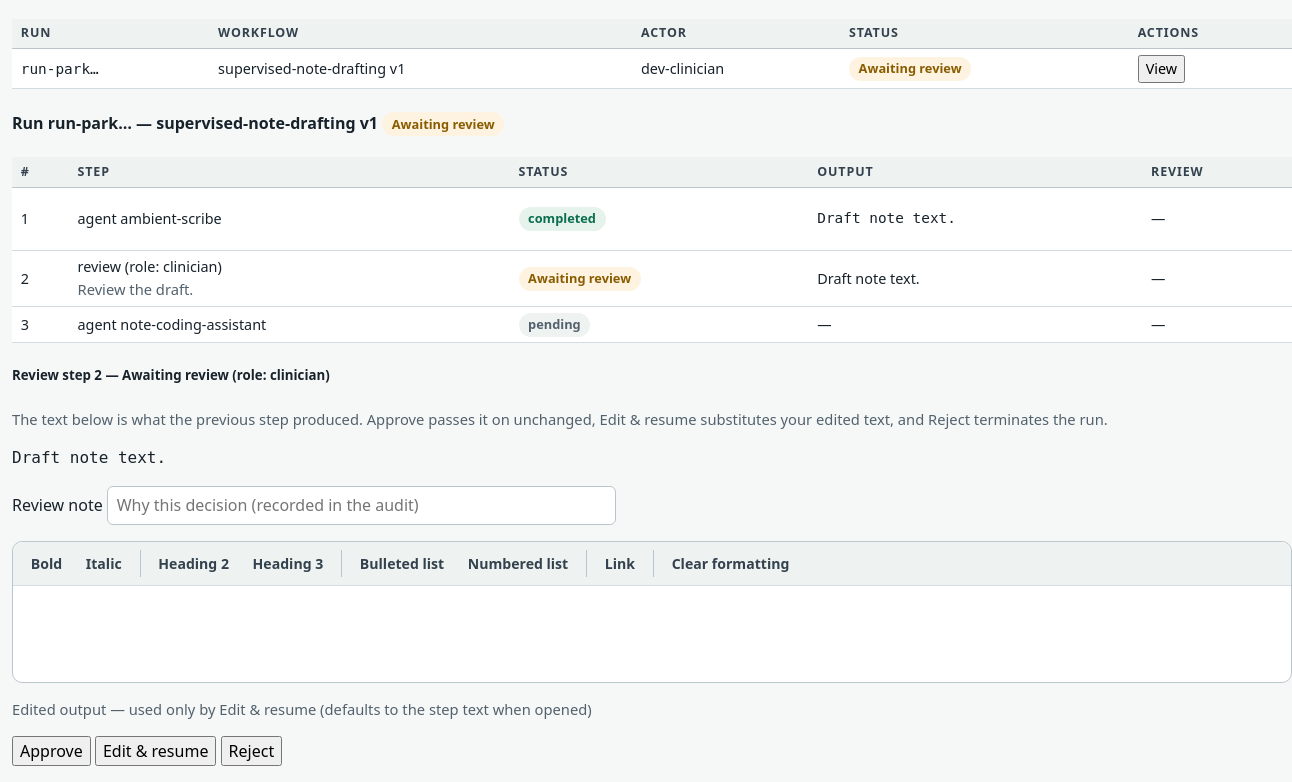
Scenario: AgentWorkflowsTab › reject terminates the run and shows downstream steps skipped
(page scrolled)
Click the button "Reject".
click(251, 751)  # box x1=221 y1=736 x2=282 y2=766
(page scrolled)
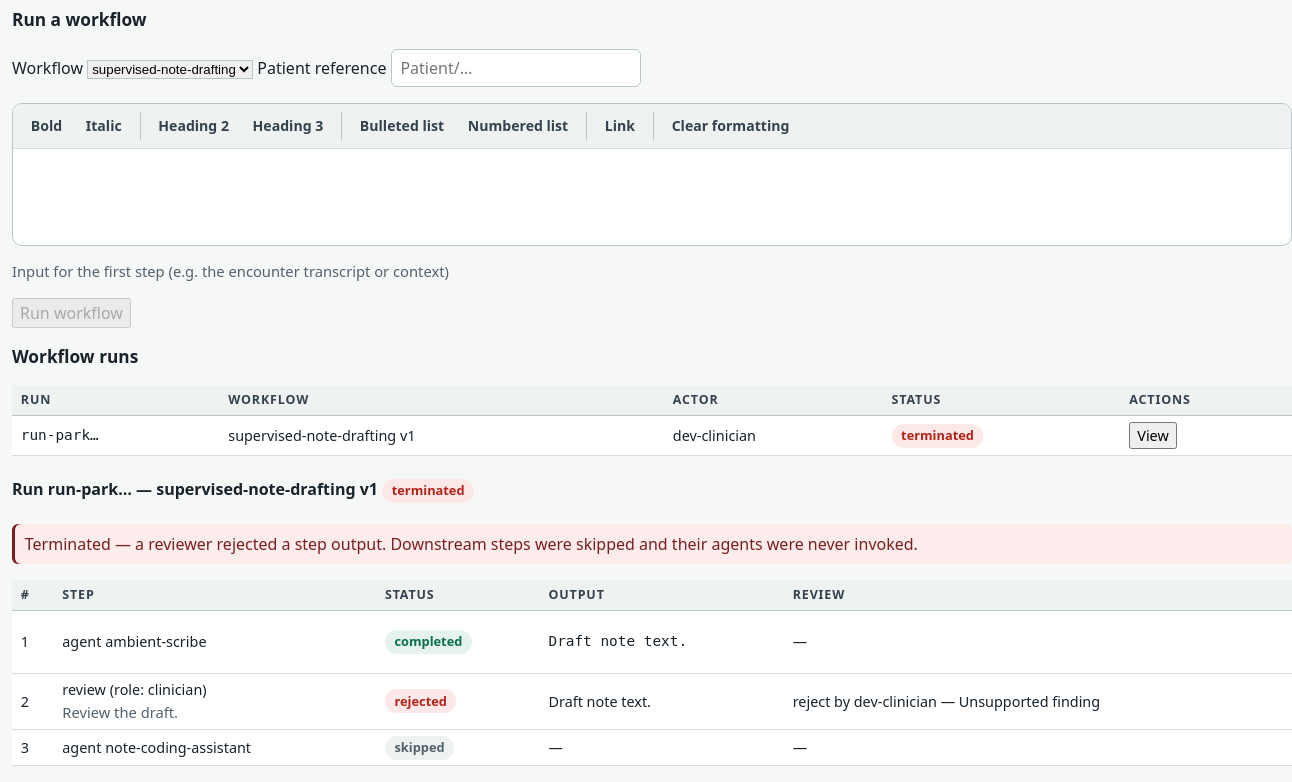
Result: the text "Terminated — a reviewer rejected a step output" is shown at x1=25 y1=533 x2=918 y2=555
Result: the text "skipped" is shown at x1=385 y1=736 x2=454 y2=760
Result: the text "reject by dev-clinician — Unsupported finding" is shown at x1=784 y1=673 x2=1291 y2=730
